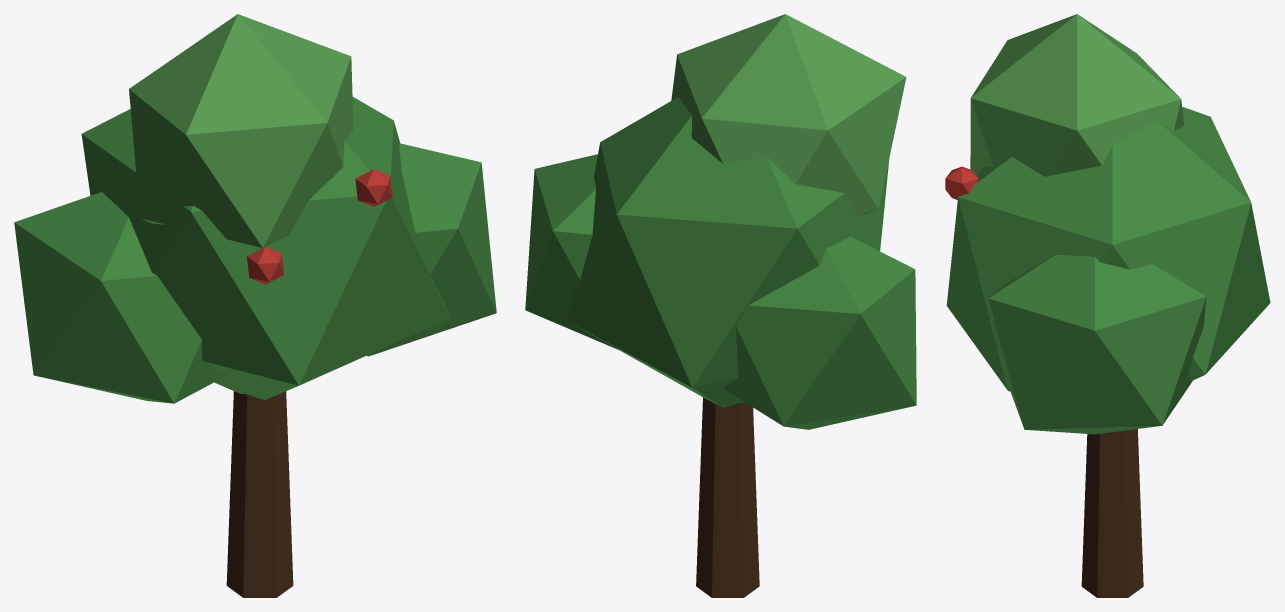
File: oak.glb
3 views of the same model, side by side, from view 1: azimuth 30°, elevation 25°; view 2: azimuth 150°, elevation 25°; view 3: azimuth 270°, elevation 25° (orthographic). The views are drawn at different scales.
Visible parts, largest first — view 1: prop_oak; view 2: prop_oak; view 3: prop_oak.
Boxes of the visible parts, x1,y1,x2,y2 form: prop_oak: (14,14,496,597); prop_oak: (525,14,916,597); prop_oak: (945,14,1270,597).
Size of the model in its own units: 0.5141 by 0.6899 by 0.3669.
